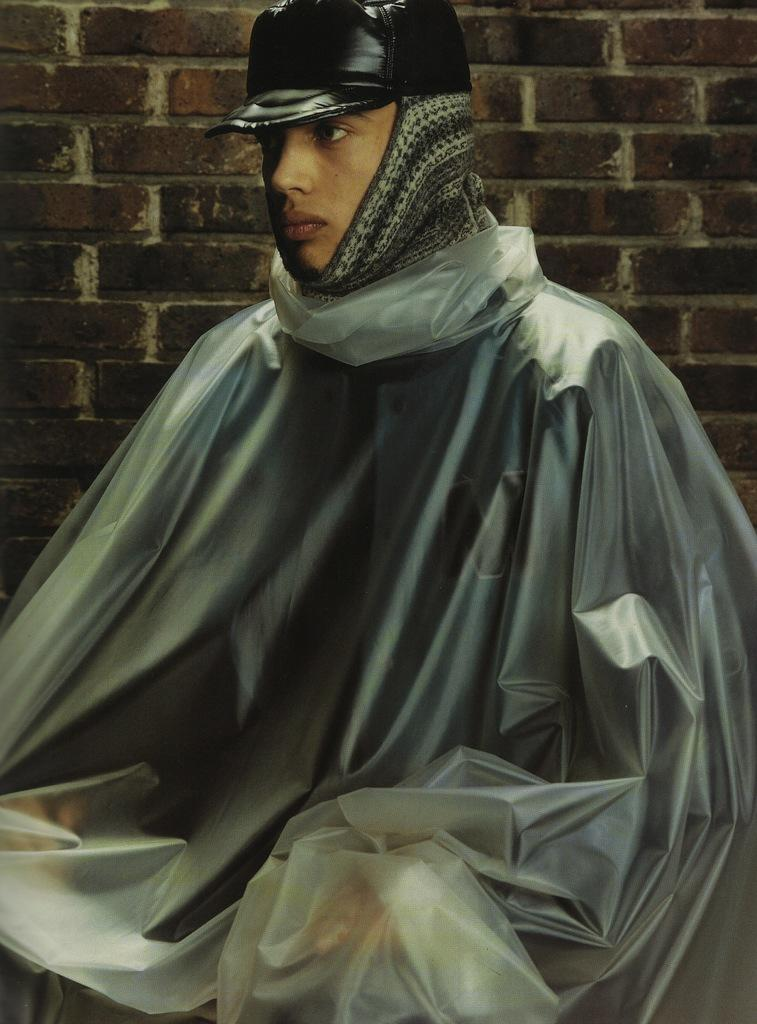Hat: (212, 6, 488, 162)
